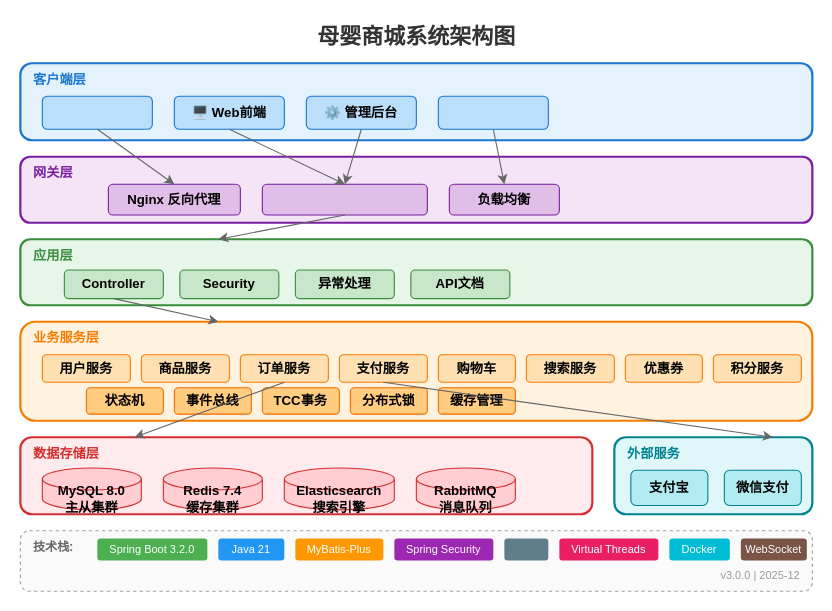
Image size: 832x611. Some labels were removed from this diagram. Here are the shapes that lost their labels. From the top down, the box of each, then its label:
(41, 95, 152, 129): 📱 移动端App
(437, 95, 548, 129): 🔷 小程序
(261, 183, 427, 215): API Gateway 路由/限流
(504, 538, 548, 560): JWT
